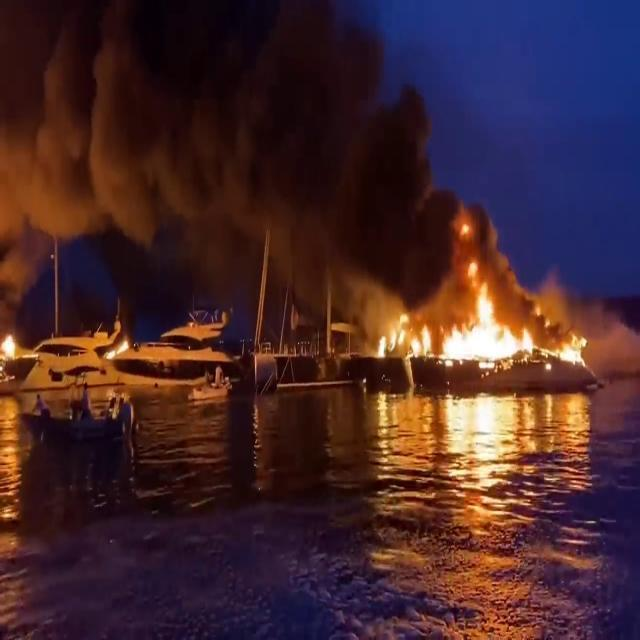Fire: (433, 240, 594, 373), (372, 305, 437, 363), (0, 326, 20, 371)
Smoke: (0, 0, 469, 282)
